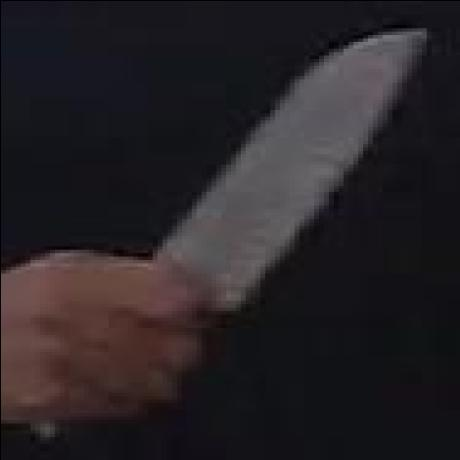weapon: (139, 25, 434, 315)
